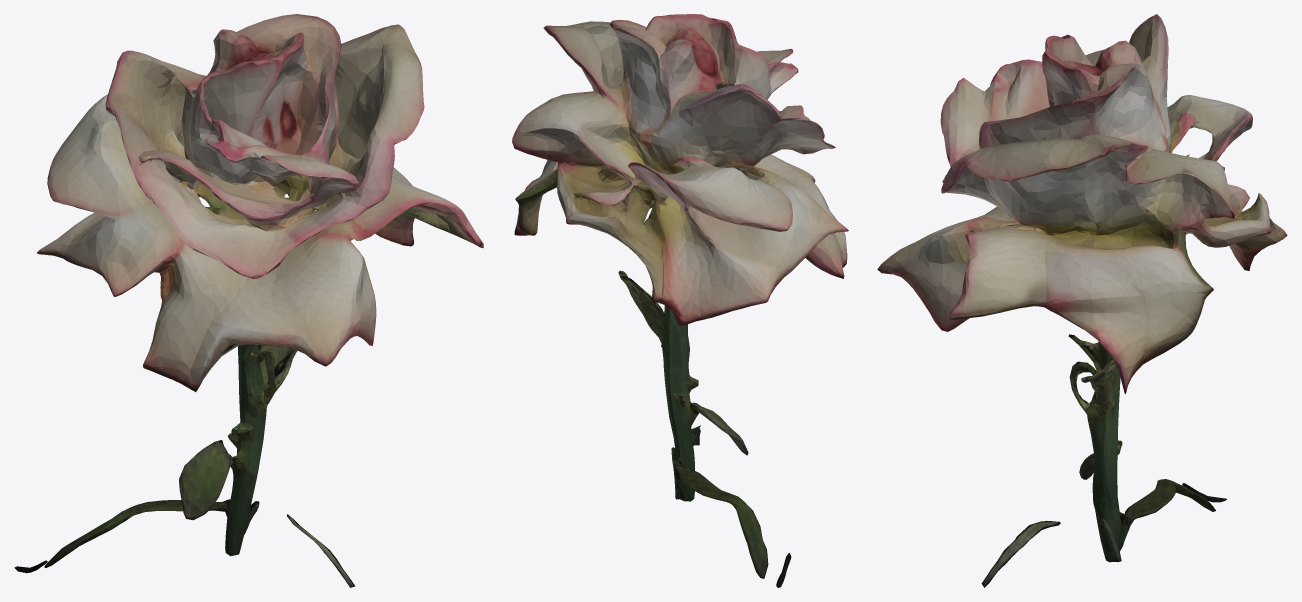
3 views of the same model, side by side, from view 1: azimuth 30°, elevation 25°; view 2: azimuth 150°, elevation 25°; view 3: azimuth 270°, elevation 25° (orthographic). The views are drawn at different scales.
Parts seen in each view (by area): view 1: world; view 2: world; view 3: world.
Boxes of the visible parts, x1,y1,x2,y2 form: world: [14, 14, 483, 587]; world: [512, 14, 848, 587]; world: [877, 14, 1287, 587].
Size of the model in its own units: 0.626 by 0.9247 by 0.6419.
1 material, 1 textured.
